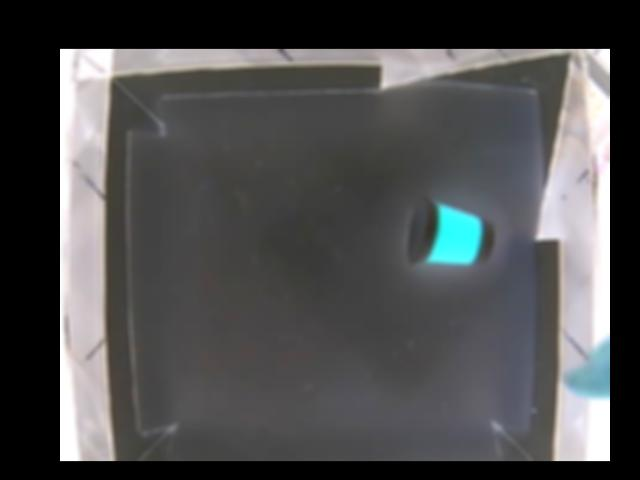Cup: (408, 198, 493, 268)
